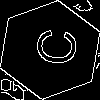C: (25, 25, 79, 68)
